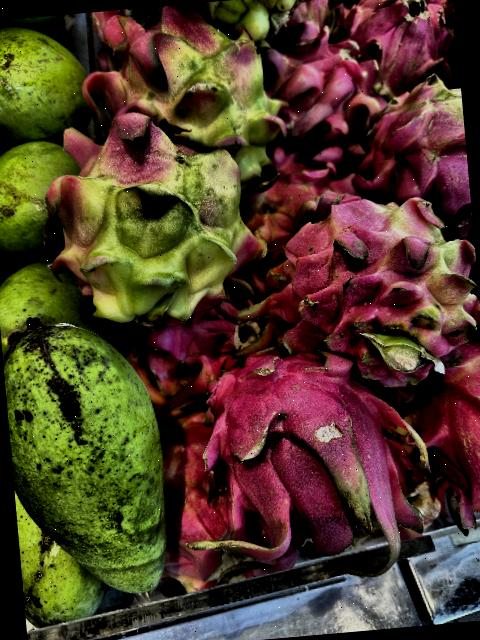buah-naga-belum-matang: (25, 97, 271, 326), (279, 179, 480, 383), (78, 0, 287, 191), (364, 72, 473, 248)
buah-naga-matang: (192, 342, 439, 580), (262, 9, 392, 158), (405, 347, 480, 527), (332, 0, 461, 104)
